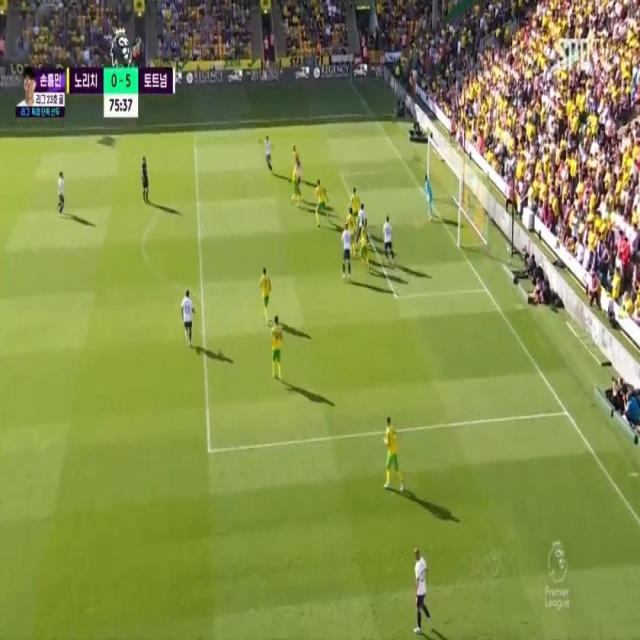goalkeeper: (420, 170, 441, 228)
player: (413, 547, 433, 624), (381, 418, 396, 492), (313, 175, 329, 230), (180, 290, 194, 350), (381, 211, 396, 266), (342, 225, 354, 283), (53, 165, 66, 218), (270, 318, 284, 367), (262, 131, 276, 176), (259, 268, 272, 314), (359, 228, 371, 269), (290, 165, 303, 199), (344, 211, 359, 236), (357, 201, 366, 230), (351, 186, 359, 214), (294, 144, 300, 171)
referee: (139, 156, 149, 202)
